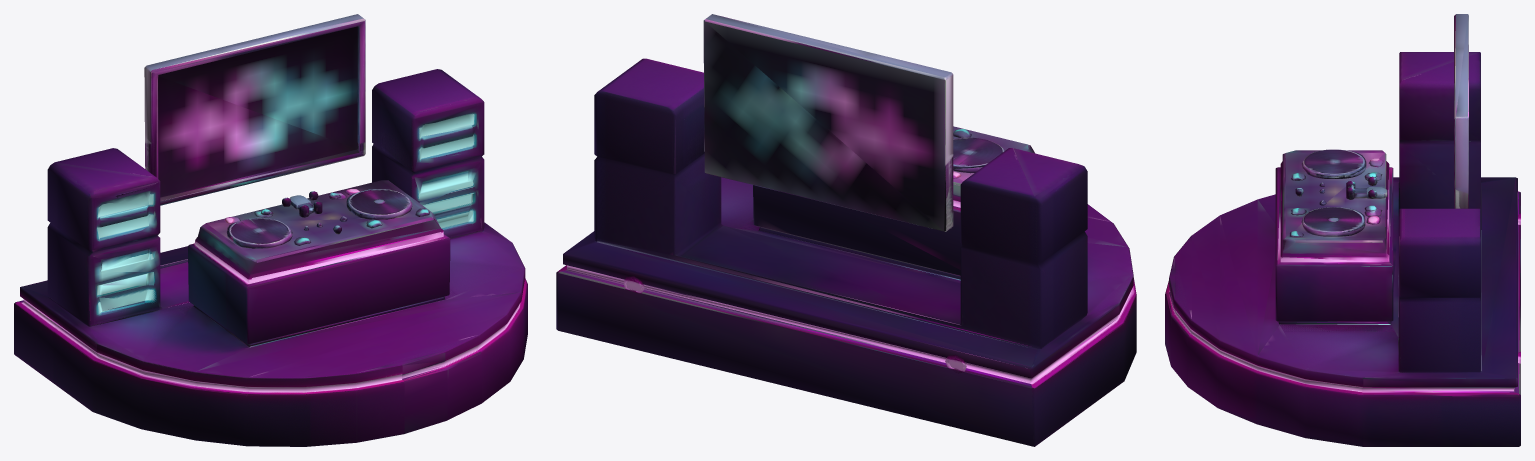
3 renders of one model, left to right at view 1: azimuth 30°, elevation 25°; view 2: azimuth 150°, elevation 25°; view 3: azimuth 270°, elevation 25°, orthographic. The views are drawn at different scales.
Parts seen in each view (by area): view 1: Mesh_0.001; view 2: Mesh_0.001; view 3: Mesh_0.001.
Part boxes in pixels (x1,y1,x2,y2): Mesh_0.001: [14, 14, 527, 446]; Mesh_0.001: [556, 14, 1136, 446]; Mesh_0.001: [1165, 14, 1520, 446].
Bounding box in the file's own units: 1.57 × 1 × 1.15.
1 material, 1 textured.
